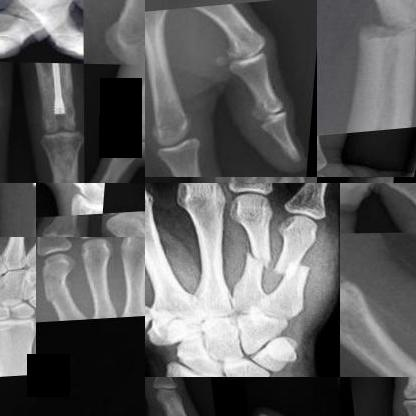fracture: (343, 0, 415, 70), (25, 62, 80, 123), (261, 246, 313, 288), (224, 241, 271, 280), (44, 278, 81, 321), (11, 183, 36, 216), (121, 98, 144, 131), (12, 252, 33, 275)
